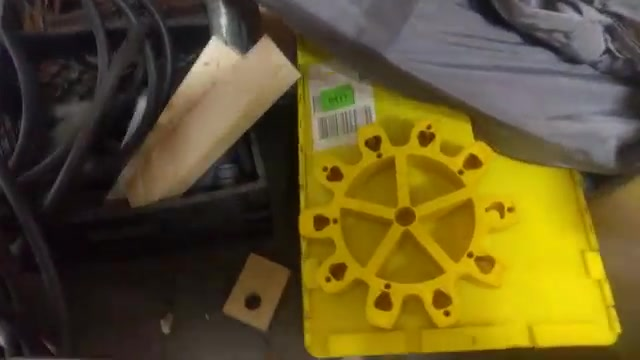gear: (286, 112, 531, 332)
